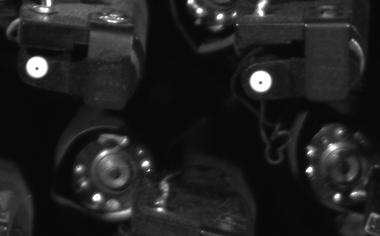fiber: (243, 68, 278, 97), (22, 52, 53, 82)
